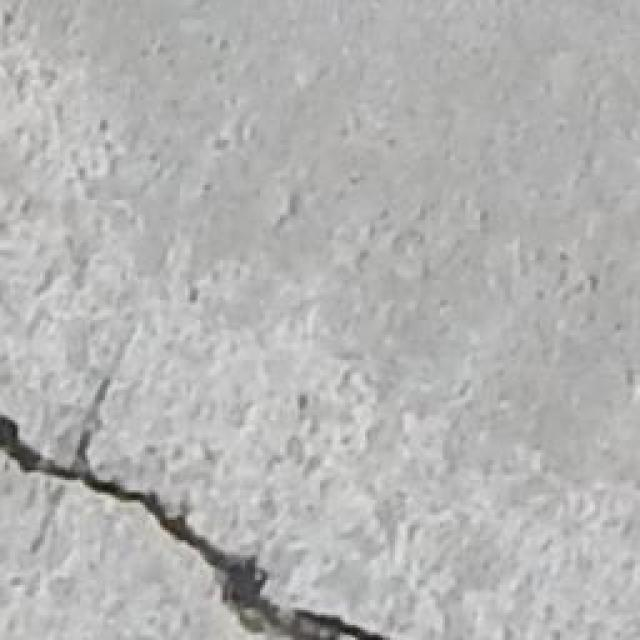concrete-crack: (0, 416, 399, 640)
